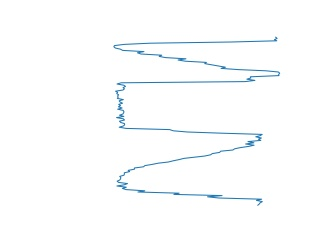distributaryChannelFill: (111, 73, 265, 141)
mouthBar: (110, 36, 284, 75)
underwaterDistributaryChannel: (114, 136, 267, 207)
